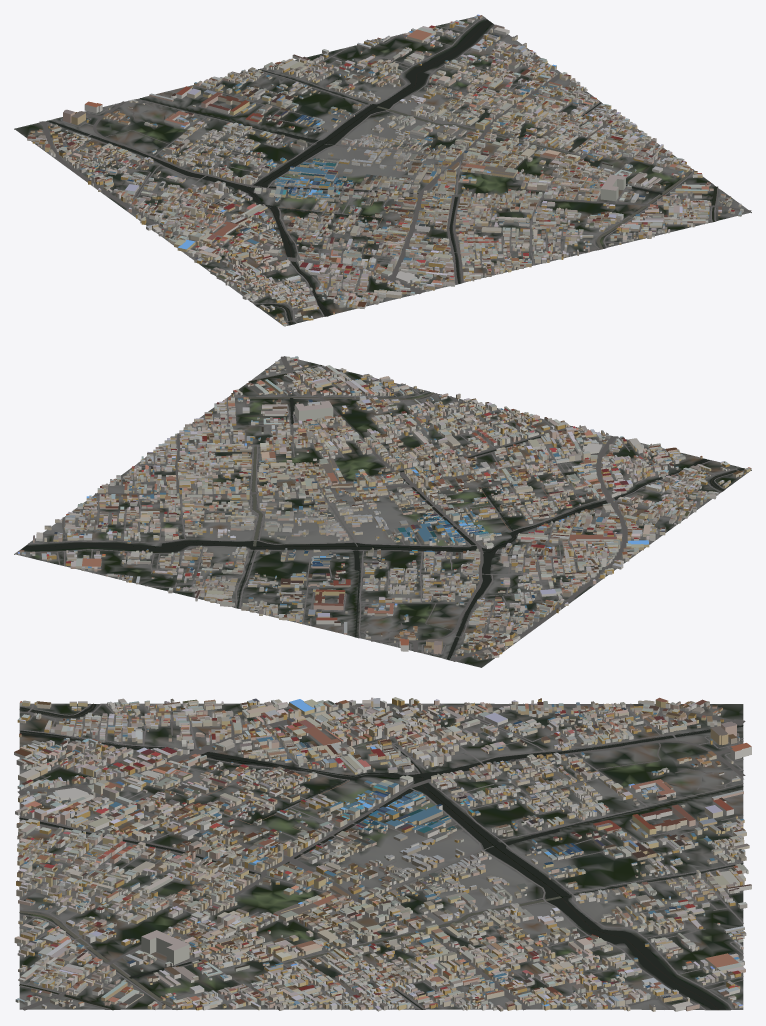
3 renders of one model, top to bottom at view 1: azimuth 30°, elevation 25°; view 2: azimuth 150°, elevation 25°; view 3: azimuth 270°, elevation 25°, orthographic. The views are drawn at different scales.
Parts seen in each view (by area): view 1: buildings, ground, roads, water; view 2: buildings, ground, roads, water; view 3: buildings, ground, roads, water.
Part boxes in pixels (x1=…): buildings: x1=27, y1=14, x2=743, y2=325; ground: x1=14, y1=15, x2=751, y2=326; roads: x1=39, y1=17, x2=751, y2=325; water: x1=46, y1=20, x2=717, y2=324; buildings: x1=18, y1=356, x2=751, y2=659; ground: x1=14, y1=356, x2=751, y2=667; roads: x1=18, y1=356, x2=746, y2=661; water: x1=21, y1=365, x2=744, y2=659; buildings: x1=14, y1=697, x2=751, y2=1011; ground: x1=19, y1=703, x2=743, y2=1010; roads: x1=17, y1=703, x2=745, y2=1010; water: x1=19, y1=703, x2=743, y2=1010.
Size of the model in its own units: 1419 by 34.98 by 1428.
